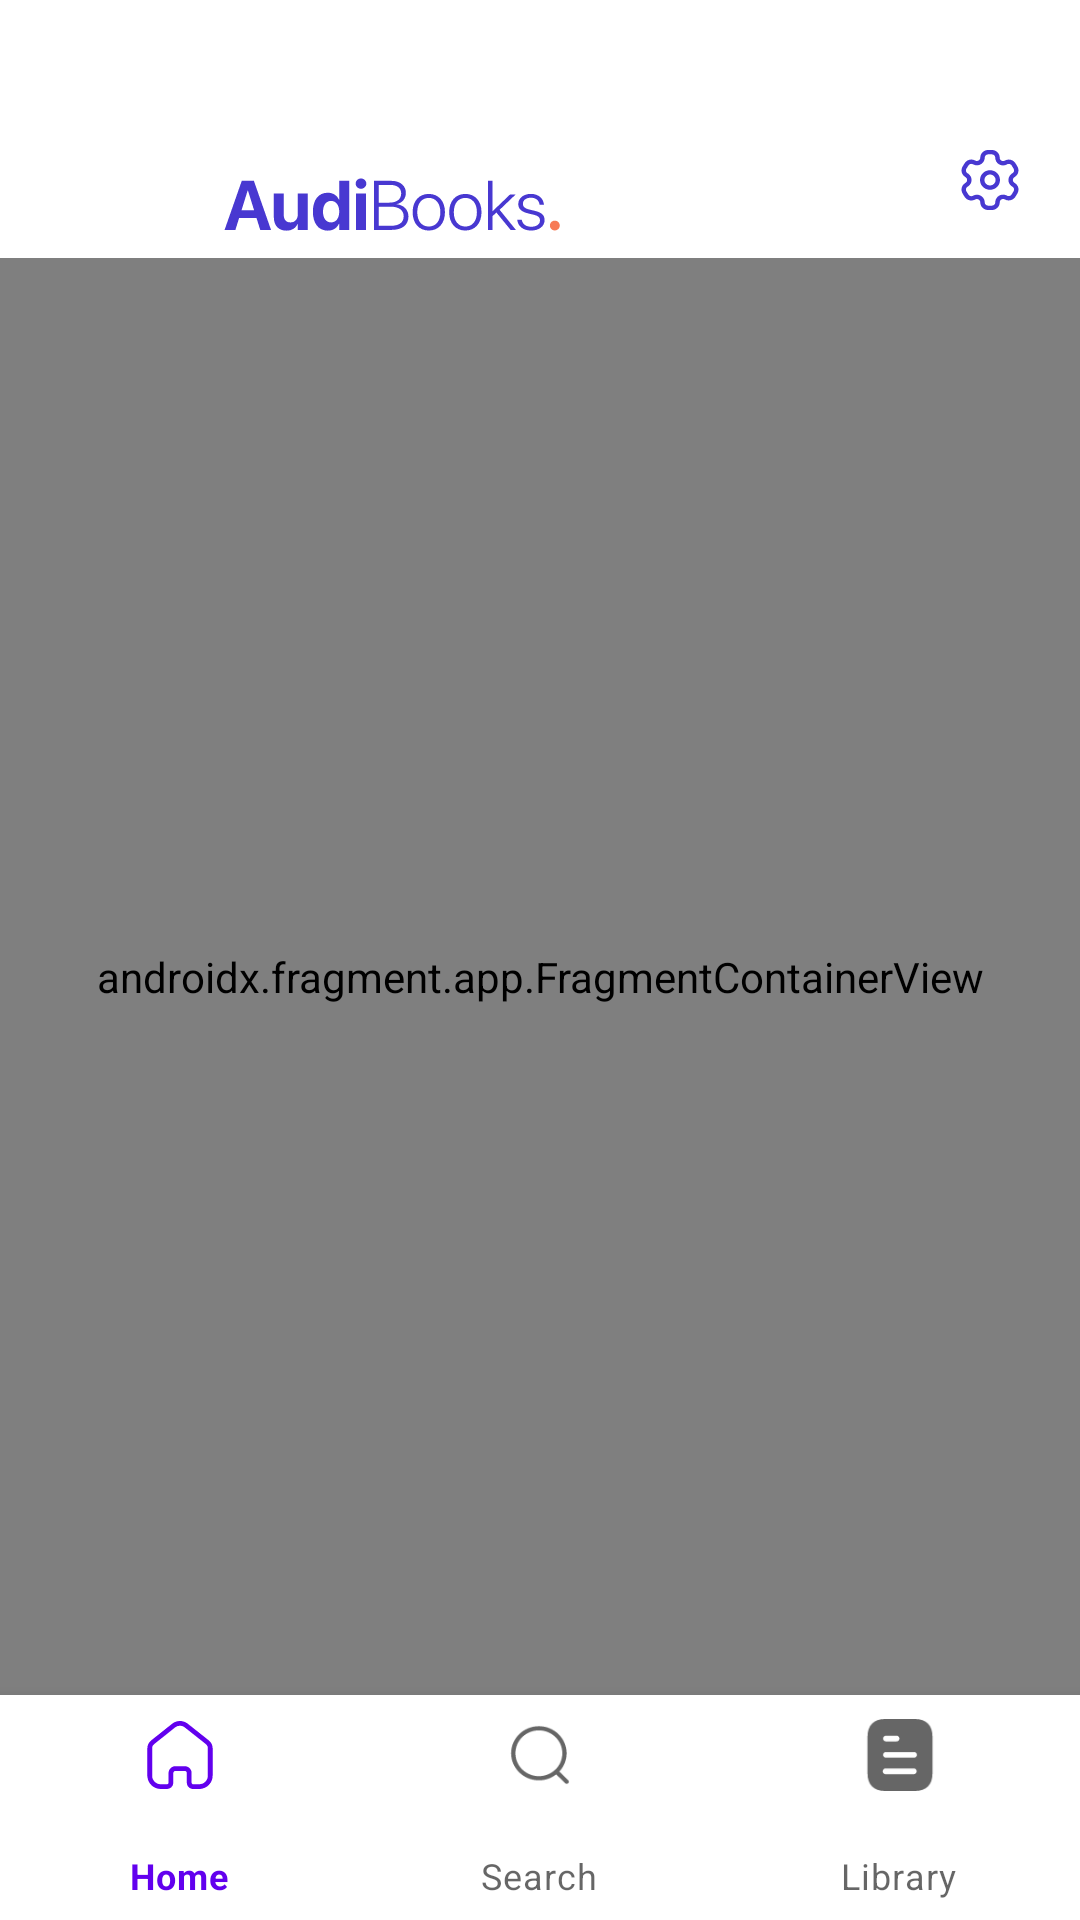

Named icons in this screenshot (1080w x 1920h) and their bounding boxes, (x1, y1, x2, y2):
setting: (961, 150, 1019, 210)
